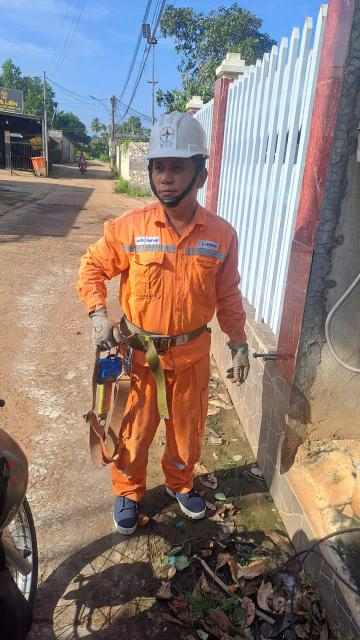gloves: (219, 336, 254, 389), (89, 309, 123, 350)
harness: (109, 312, 220, 361)
helmet: (128, 102, 213, 170)
shoes: (106, 480, 152, 544), (158, 472, 216, 513)
